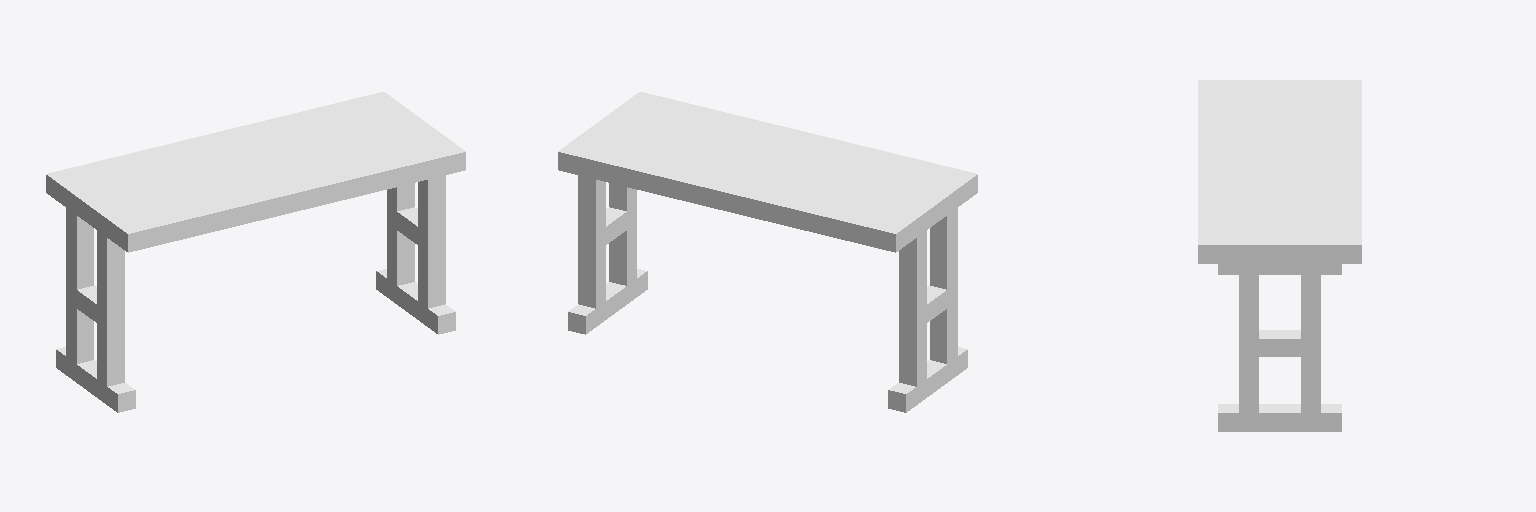
File: apt-table-folding.obj
3 views of the same model, side by side, from view 1: azimuth 30°, elevation 25°; view 2: azimuth 150°, elevation 25°; view 3: azimuth 270°, elevation 25° (orthographic).
Visible parts, largest first — view 1: apt:table-folding; view 2: apt:table-folding; view 3: apt:table-folding.
Boxes of the visible parts, box(x1,y1,x2,y2) form: apt:table-folding: box(46, 92, 465, 412); apt:table-folding: box(558, 92, 977, 412); apt:table-folding: box(1198, 80, 1361, 431).
Size of the model in its own units: 19 by 10 by 8.